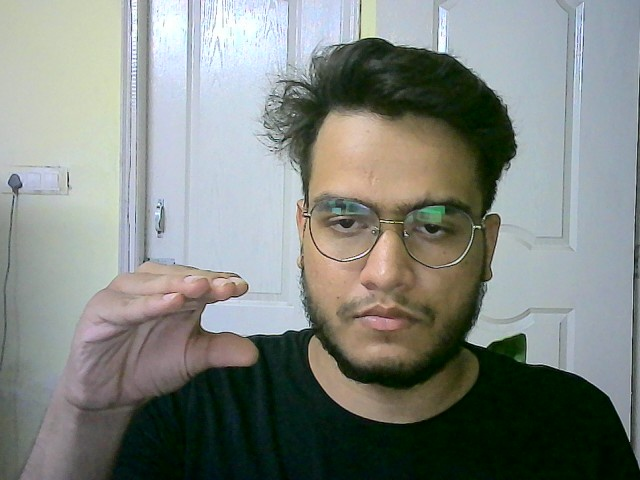No: (70, 257, 263, 415)
